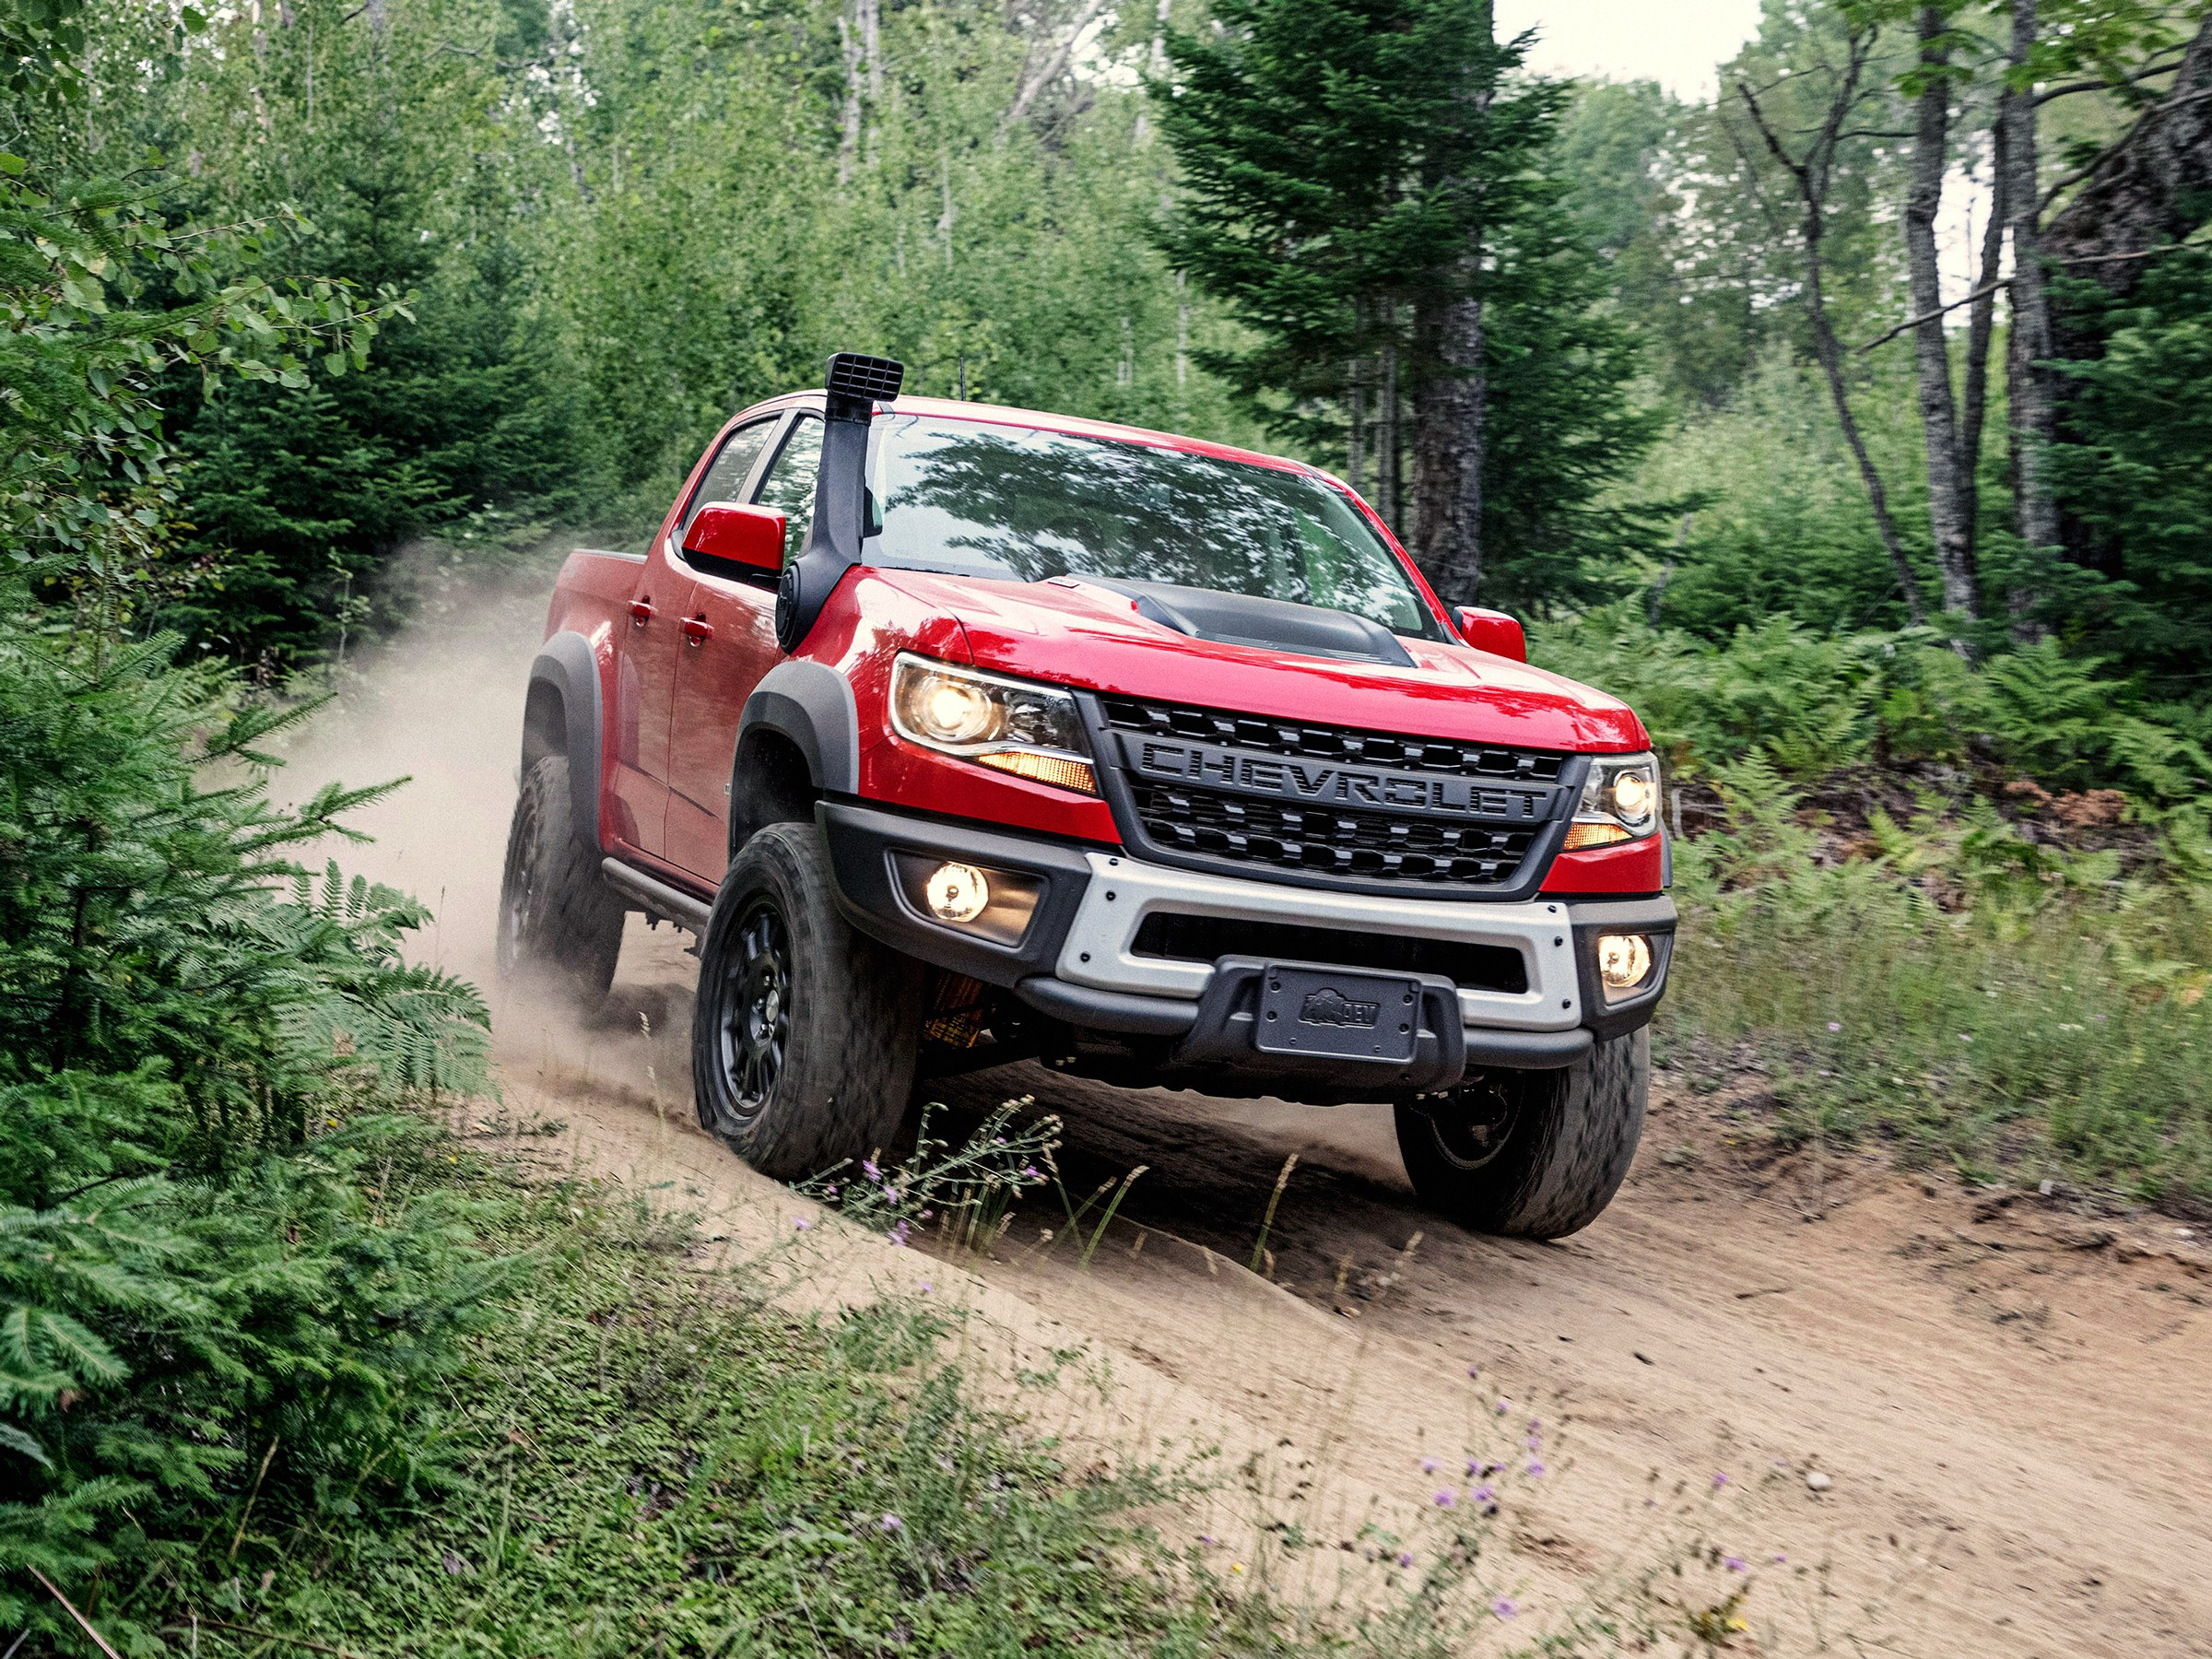car: (500, 355, 1683, 1236)
